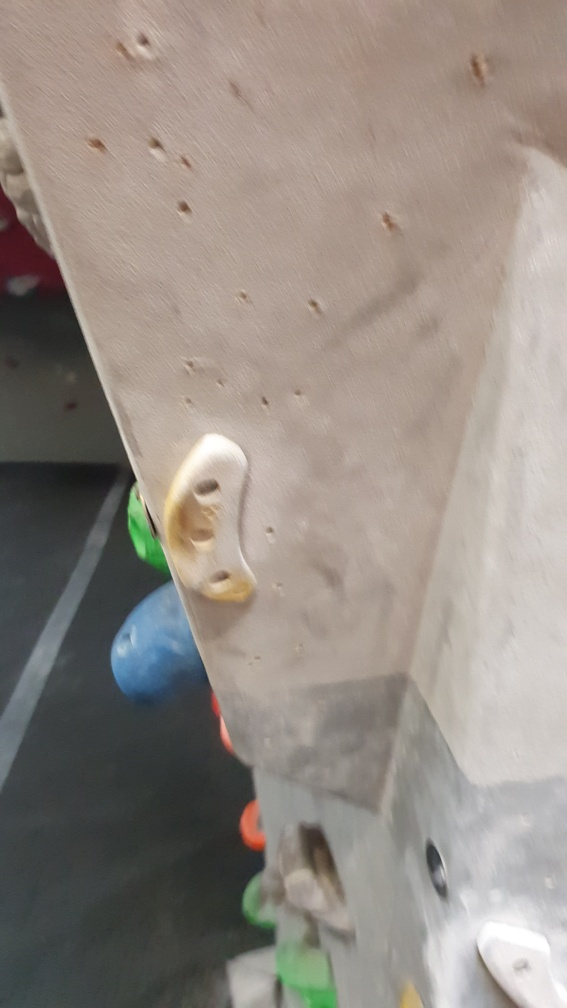Crimp: (483, 924, 564, 1008)
Hand Start: (424, 841, 455, 901)
